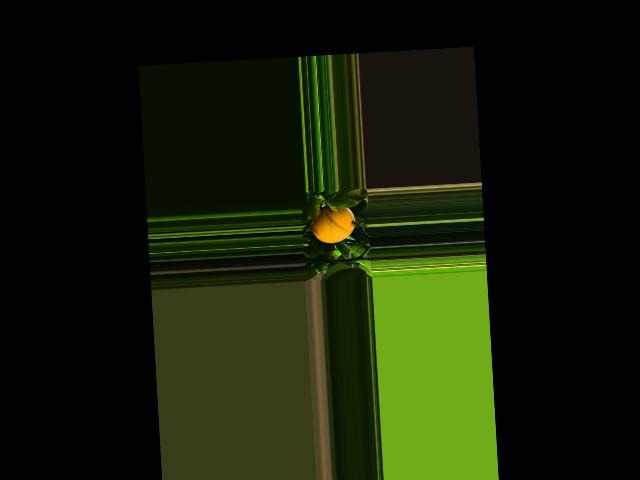lemon: (309, 204, 359, 245)
